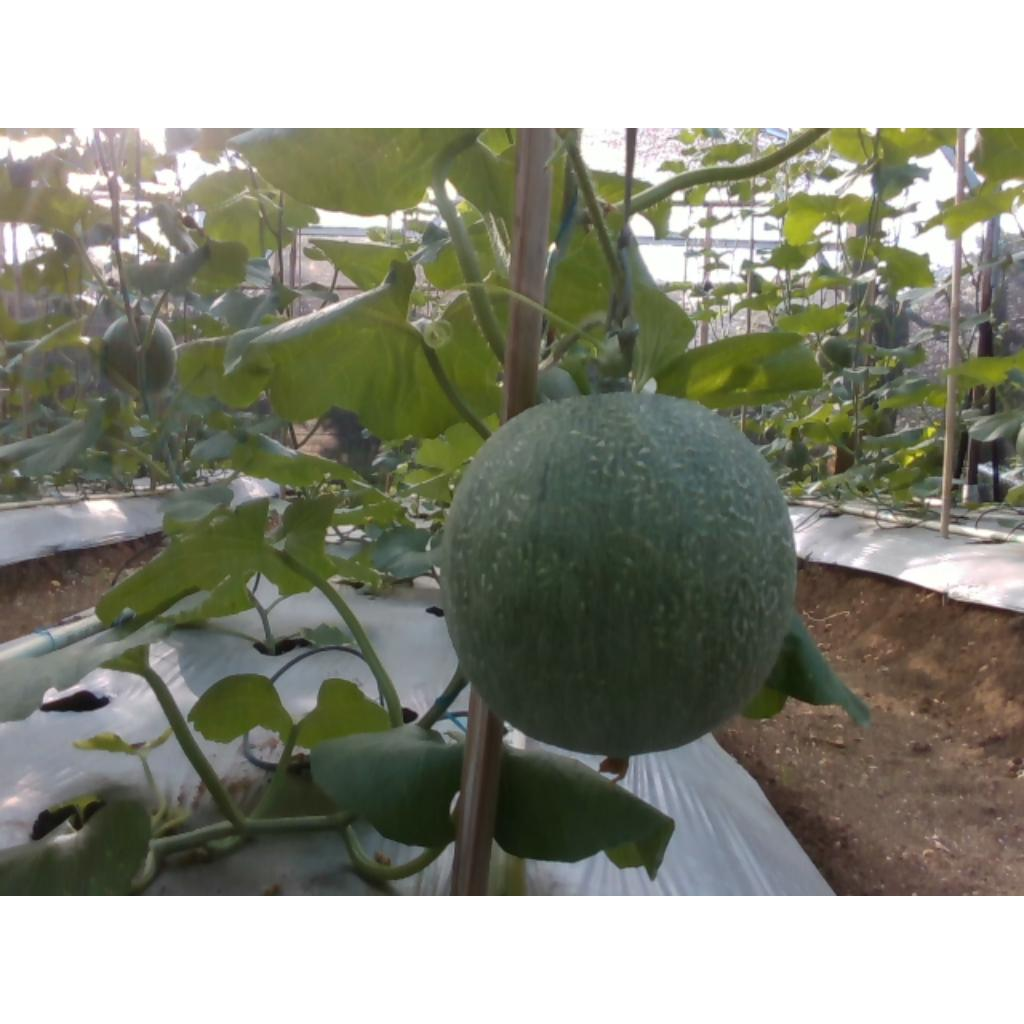melon: (442, 394, 795, 756)
